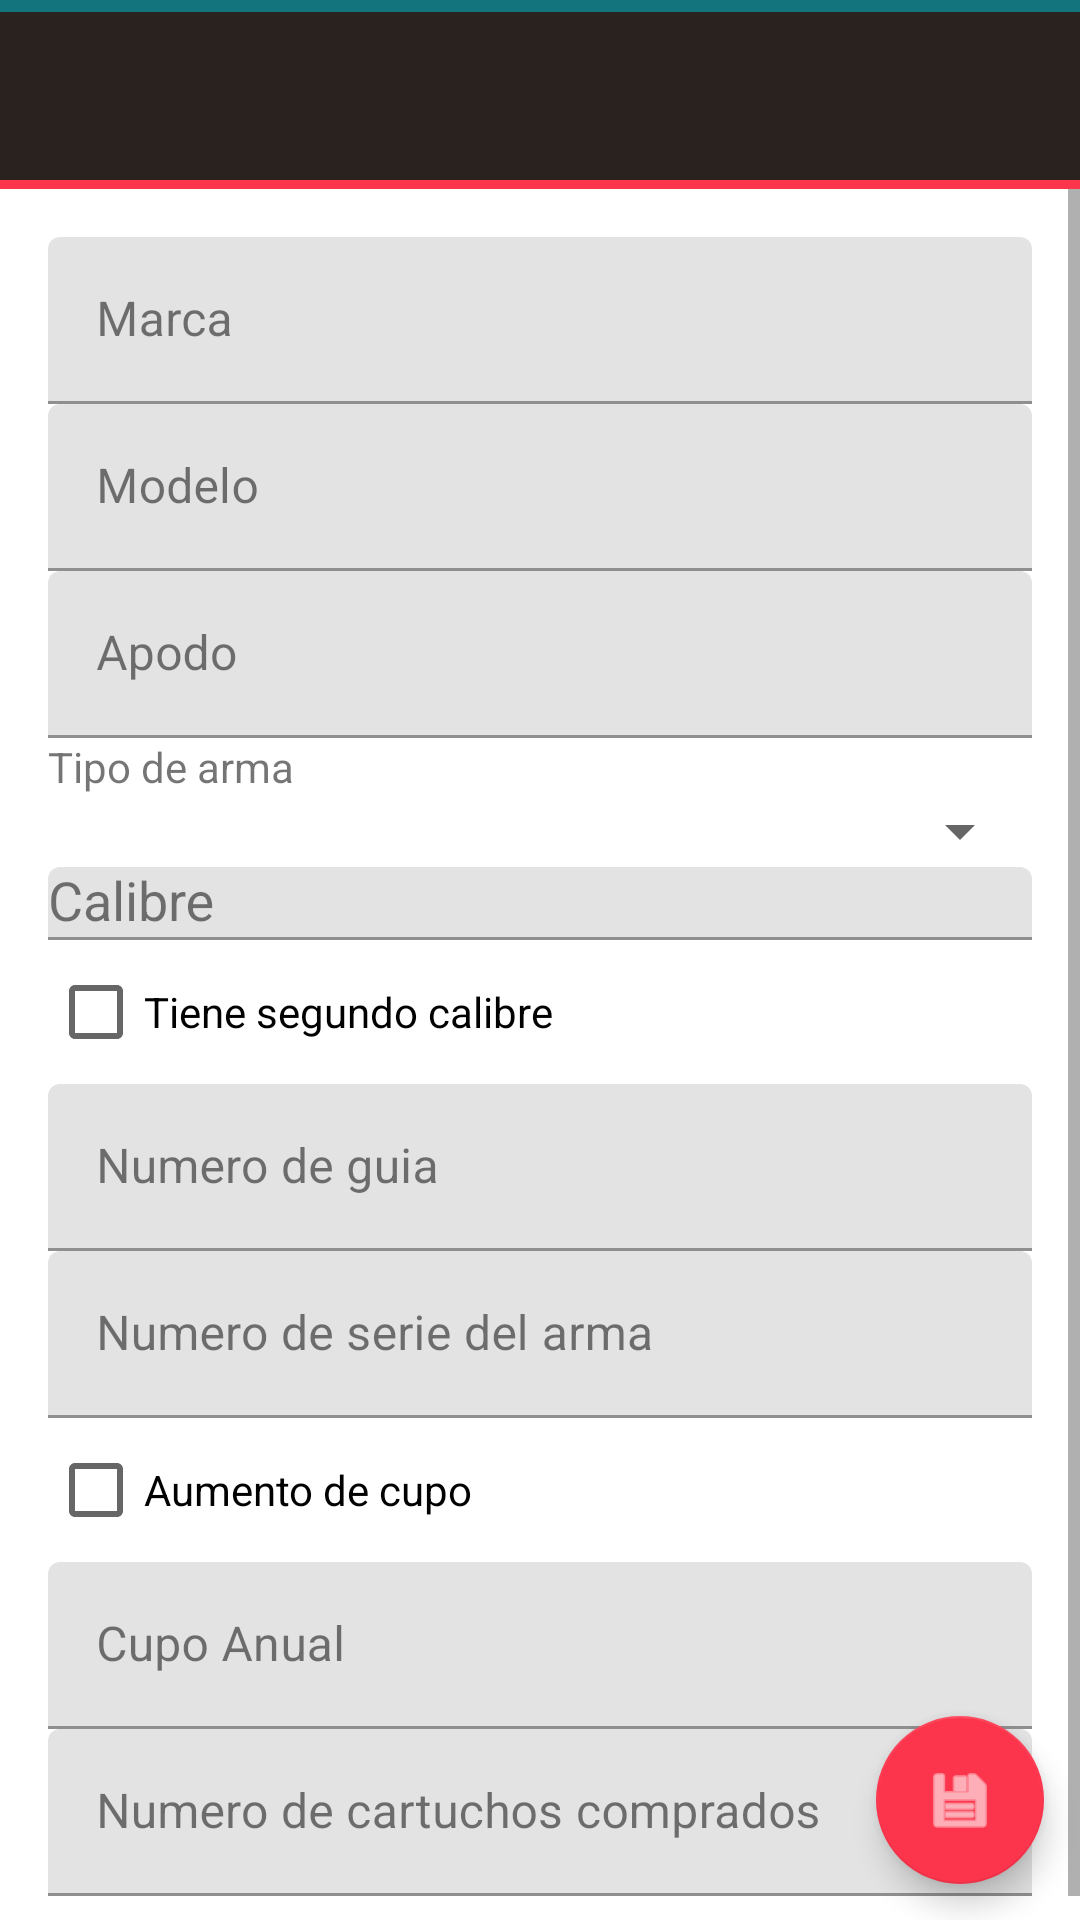

Where to tap for icons on this 1080px×1920px app screen, as point (x, y):
save: point (960, 1800)
